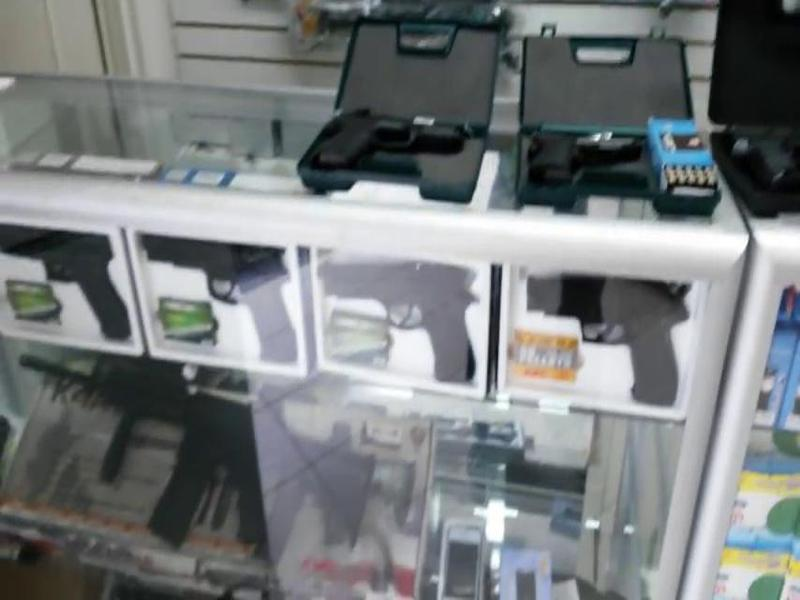Pistola: (293, 98, 499, 215), (518, 117, 657, 209)
